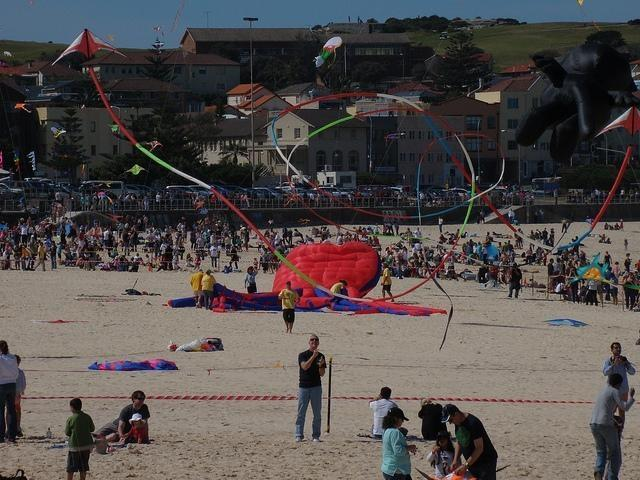bus: (76, 181, 122, 199)
car: (76, 180, 138, 195), (248, 187, 285, 205), (126, 184, 160, 198), (160, 188, 195, 200), (222, 186, 258, 197), (166, 185, 208, 194), (318, 187, 349, 198), (208, 184, 230, 196), (452, 188, 468, 198), (287, 188, 308, 194), (307, 188, 318, 198), (38, 180, 54, 184)
